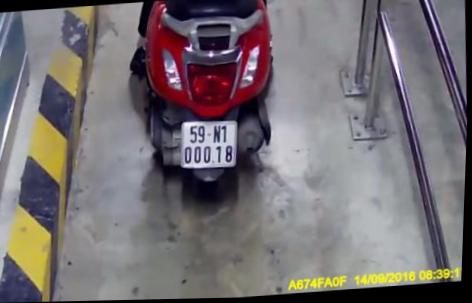LP: (179, 116, 243, 172)
